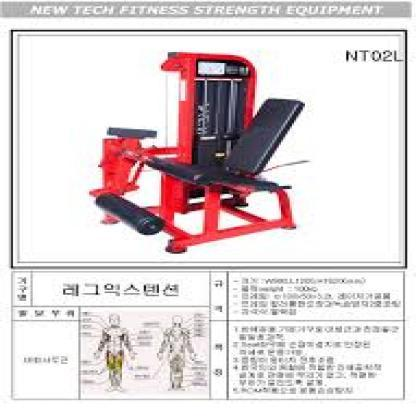leg extension: (81, 47, 317, 254)
